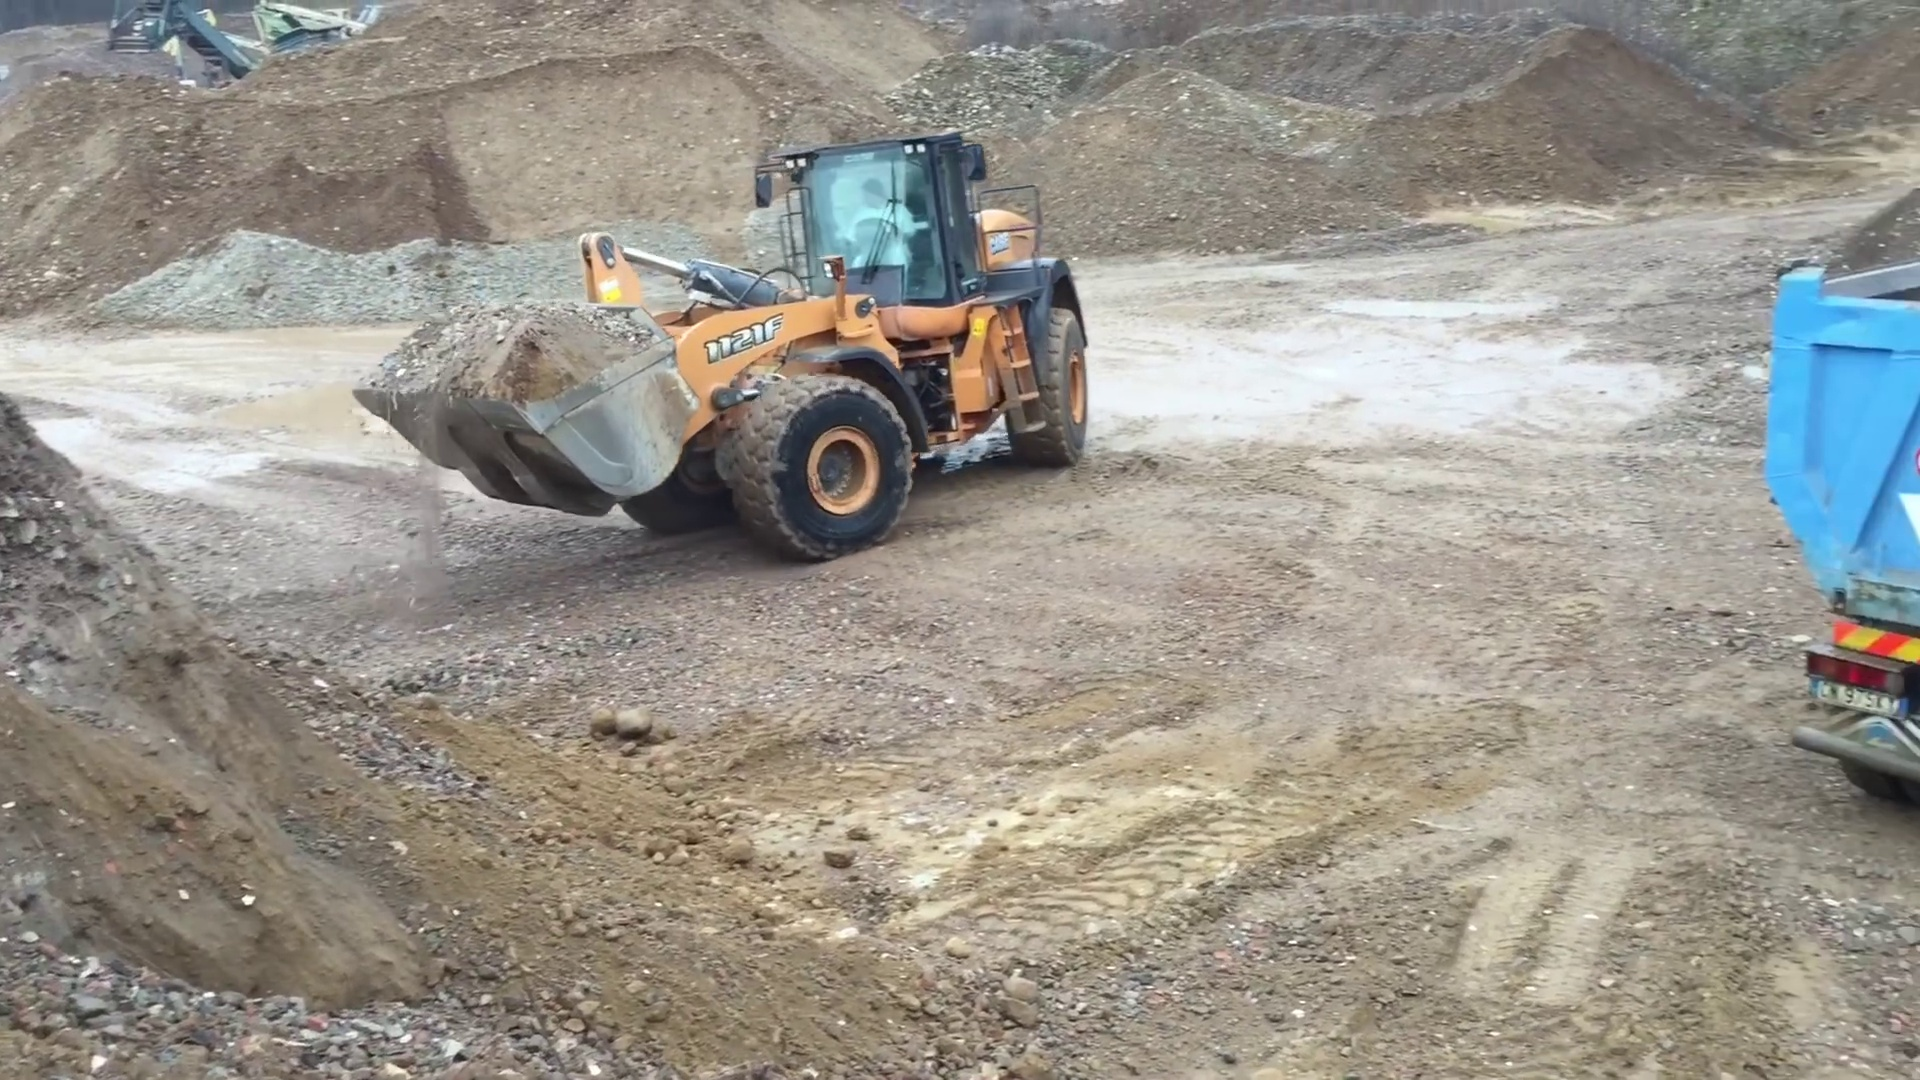wheel loader: (349, 127, 1097, 560)
